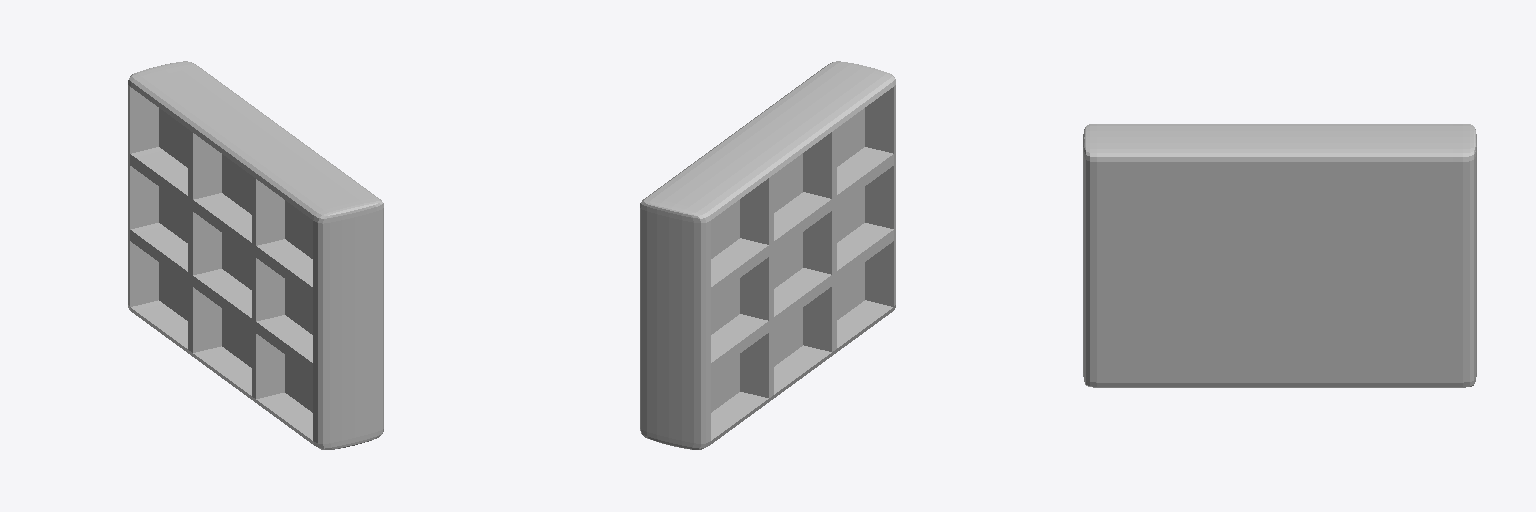
File: bomb-rounded.obj
3 views of the same model, side by side, from view 1: azimuth 30°, elevation 25°; view 2: azimuth 150°, elevation 25°; view 3: azimuth 270°, elevation 25° (orthographic).
Visible parts, largest first — view 1: Cube_Cube.001; view 2: Cube_Cube.001; view 3: Cube_Cube.001.
Part boxes in pixels (x1,y1,x2,y2): Cube_Cube.001: (128, 61, 383, 449); Cube_Cube.001: (640, 61, 895, 449); Cube_Cube.001: (1083, 124, 1476, 387).
Bounding box in the file's own units: 0.03 × 0.0997 × 0.1493.